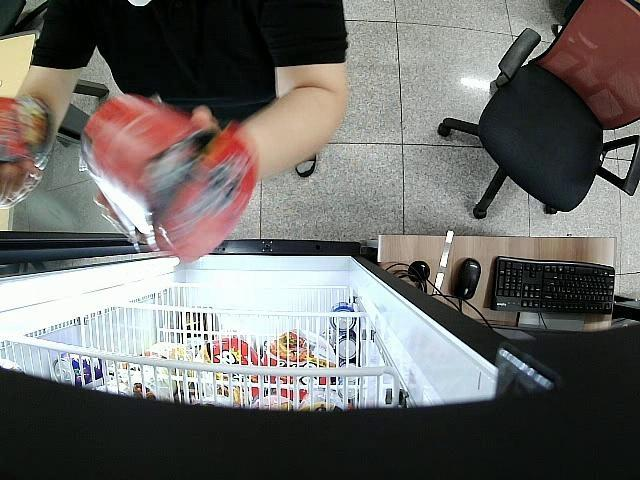02_shinRamen_S: (80, 98, 258, 256), (0, 96, 54, 168)
